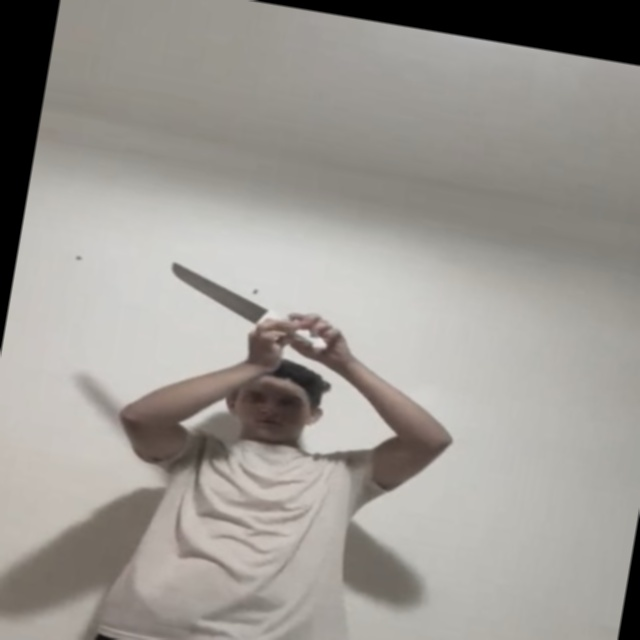Sharp-Object: (164, 260, 272, 323)
